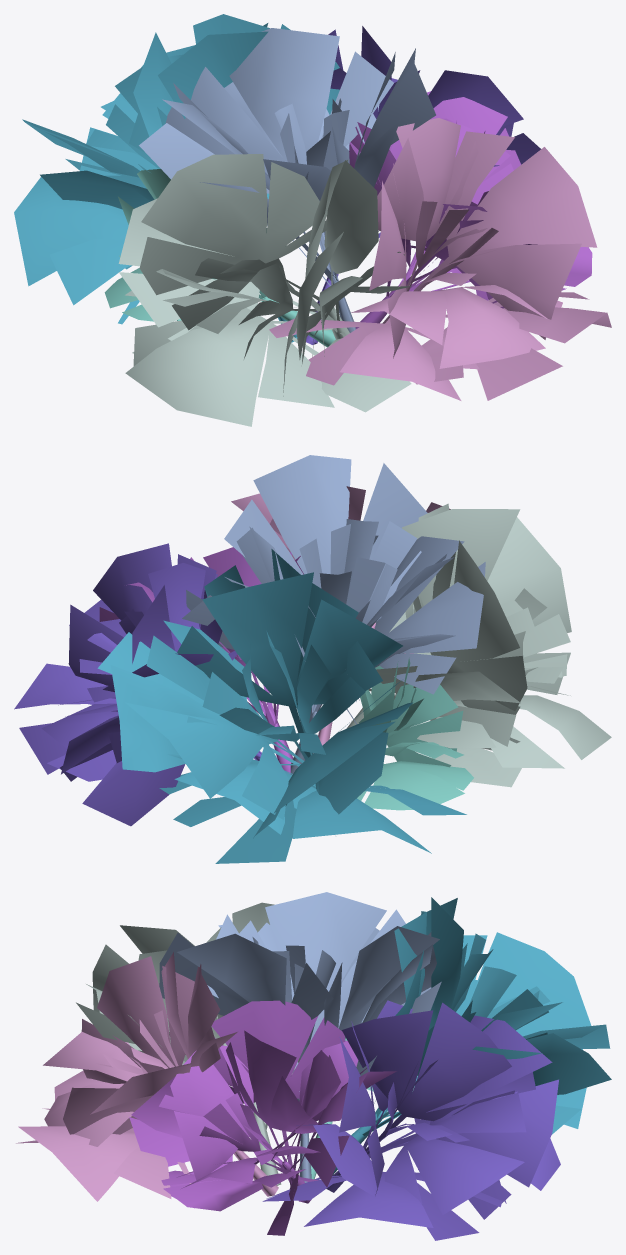
3 renders of one model, top to bottom at view 1: azimuth 30°, elevation 25°; view 2: azimuth 150°, elevation 25°; view 3: azimuth 270°, elevation 25°, orthographic. The views are drawn at different scales.
Parts seen in each view (by area): view 1: SM_BS_FanPalm_250cm_HD; view 2: SM_BS_FanPalm_250cm_HD; view 3: SM_BS_FanPalm_250cm_HD.
Boxes of the visible parts, box(x1,y1,x2,y2) form: SM_BS_FanPalm_250cm_HD: box(14, 14, 611, 426); SM_BS_FanPalm_250cm_HD: box(14, 455, 611, 863); SM_BS_FanPalm_250cm_HD: box(16, 892, 611, 1240).
Bounding box in the file's own units: 233 × 198 × 121.
